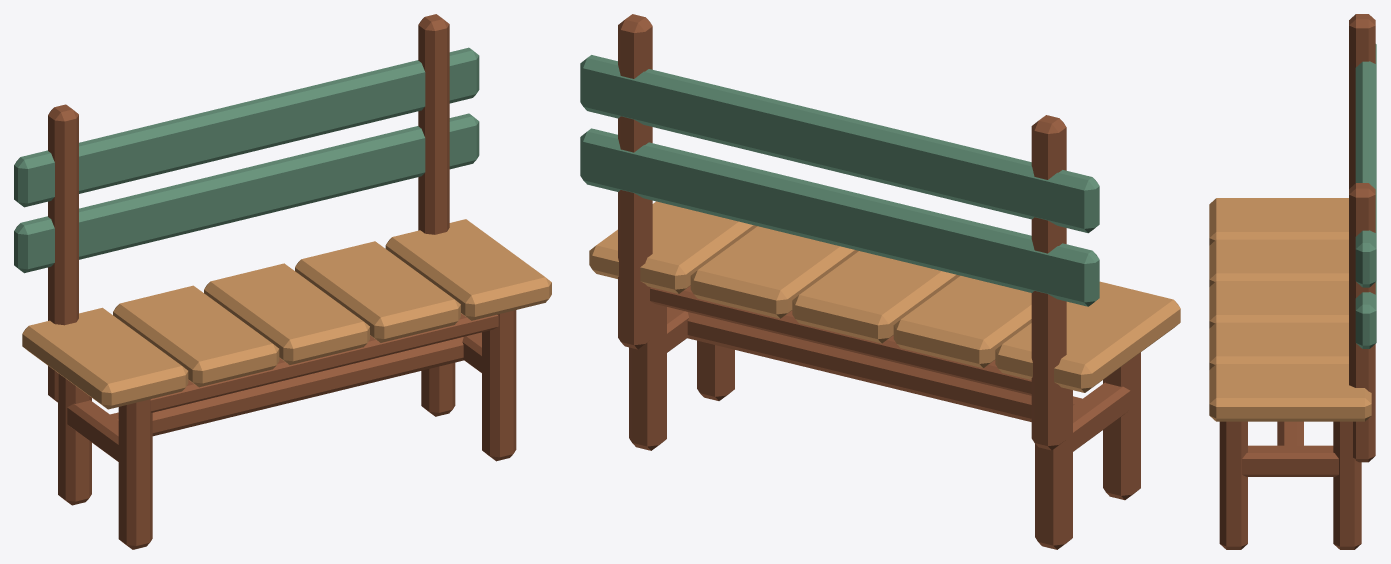
The model's file is 04_Garden_Bench.glb.
3 renders of one model, left to right at view 1: azimuth 30°, elevation 25°; view 2: azimuth 150°, elevation 25°; view 3: azimuth 270°, elevation 25°, orthographic. The views are drawn at different scales.
Parts seen in each view (by area): view 1: 04_Garden_Bench; view 2: 04_Garden_Bench; view 3: 04_Garden_Bench.
Boxes of the visible parts, <box> form: 04_Garden_Bench: <box>14,14,551,549</box>; 04_Garden_Bench: <box>580,14,1180,549</box>; 04_Garden_Bench: <box>1209,14,1376,549</box>.
Bounding box in the file's own units: 1.32 × 1.06 × 0.4425.
